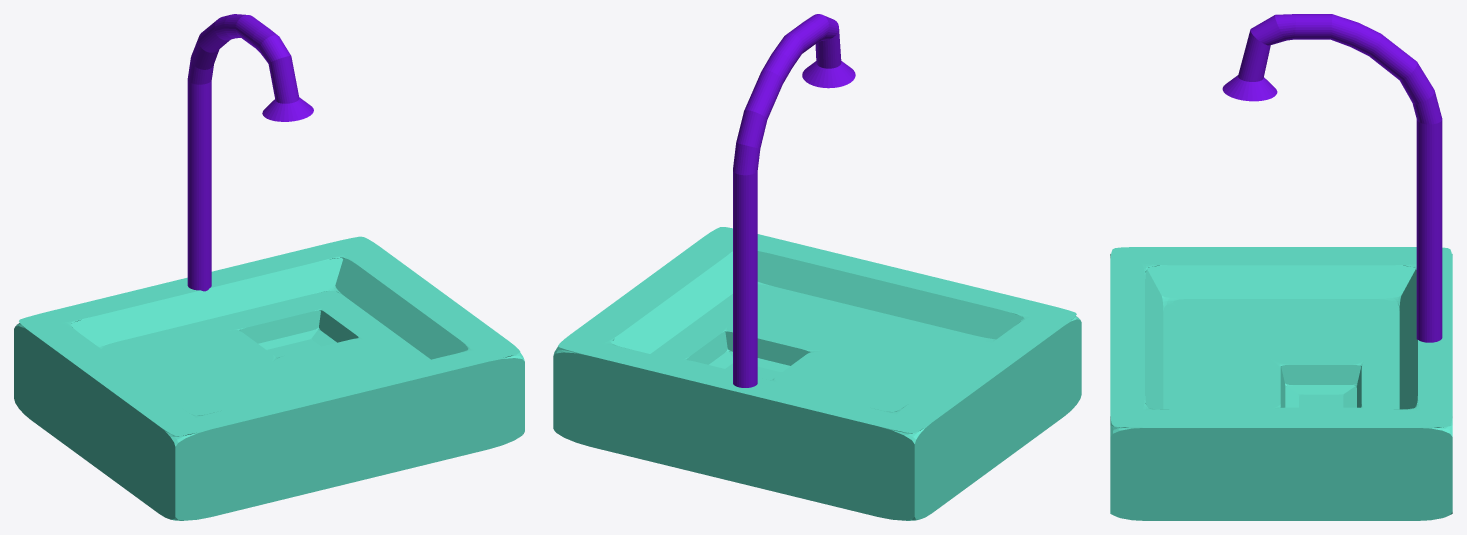
File: sink.fbx
3 views of the same model, side by side, from view 1: azimuth 30°, elevation 25°; view 2: azimuth 150°, elevation 25°; view 3: azimuth 270°, elevation 25° (orthographic). The views are drawn at different scales.
Visible parts, largest first — view 1: Раковина, Кран; view 2: Раковина, Кран; view 3: Раковина, Кран.
Boxes of the visible parts, x1,y1,x2,y2 form: Раковина: (14, 236, 524, 520); Кран: (187, 14, 313, 291); Раковина: (553, 227, 1081, 520); Кран: (733, 14, 855, 387); Раковина: (1110, 247, 1452, 520); Кран: (1222, 14, 1442, 342).
Bounding box in the file's own units: 100 × 107 × 80.
